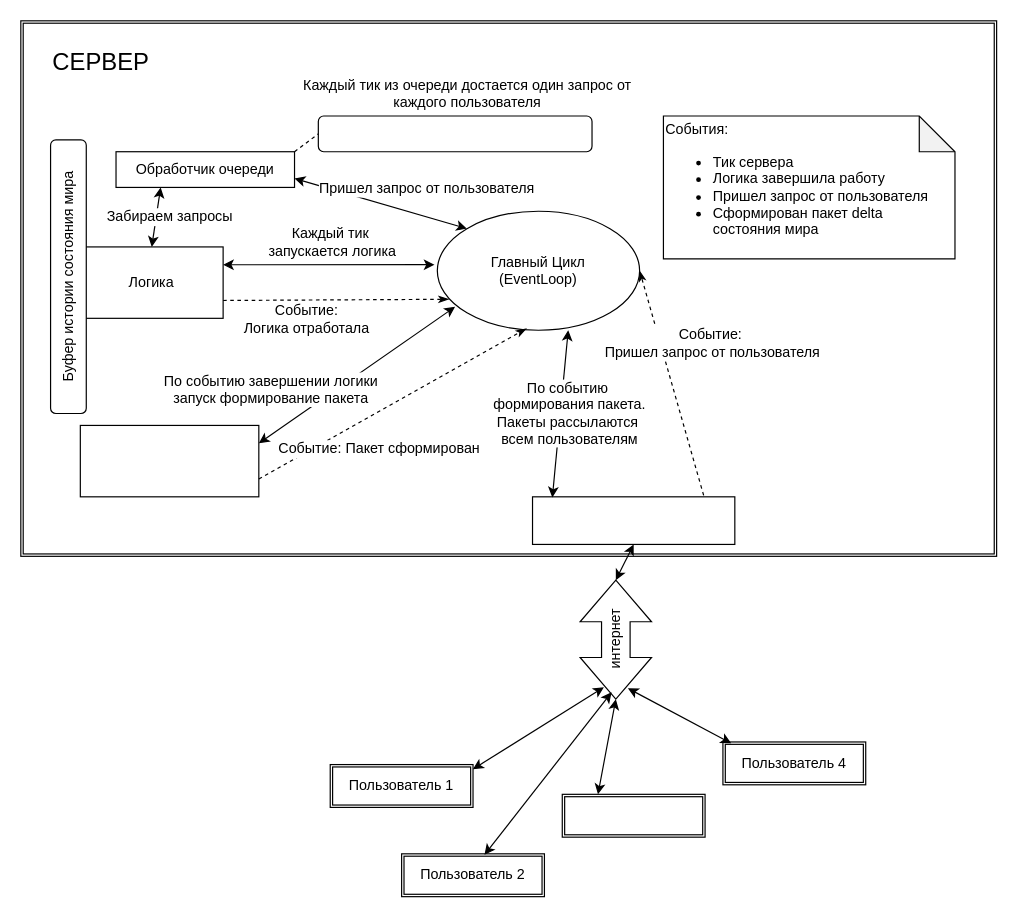
This 1017x917 diagram has some shape labels left out. Each missing label, with the box of its shape:
Очередь запросов пользователей: (317, 115, 592, 152)
Пользователь 3: (561, 793, 705, 837)
Работа с сетью: (531, 496, 735, 544)
Формирование пакета delta состояния мира: (79, 424, 259, 497)
